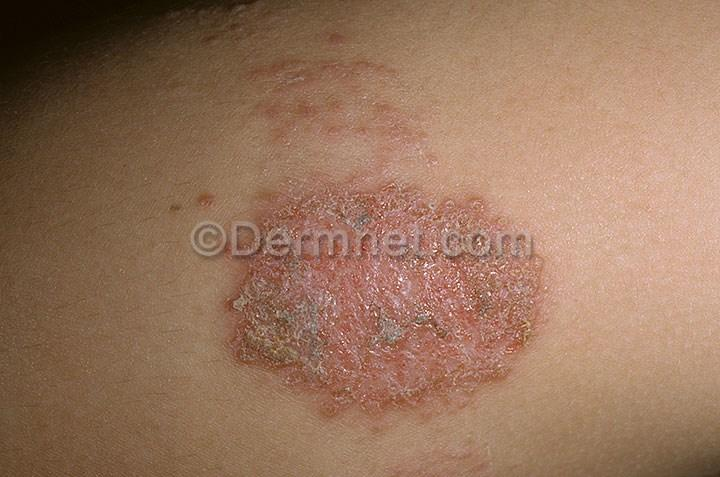Eczema: (190, 159, 583, 428), (232, 32, 443, 154), (139, 163, 230, 245), (345, 436, 502, 477), (194, 8, 305, 55)
